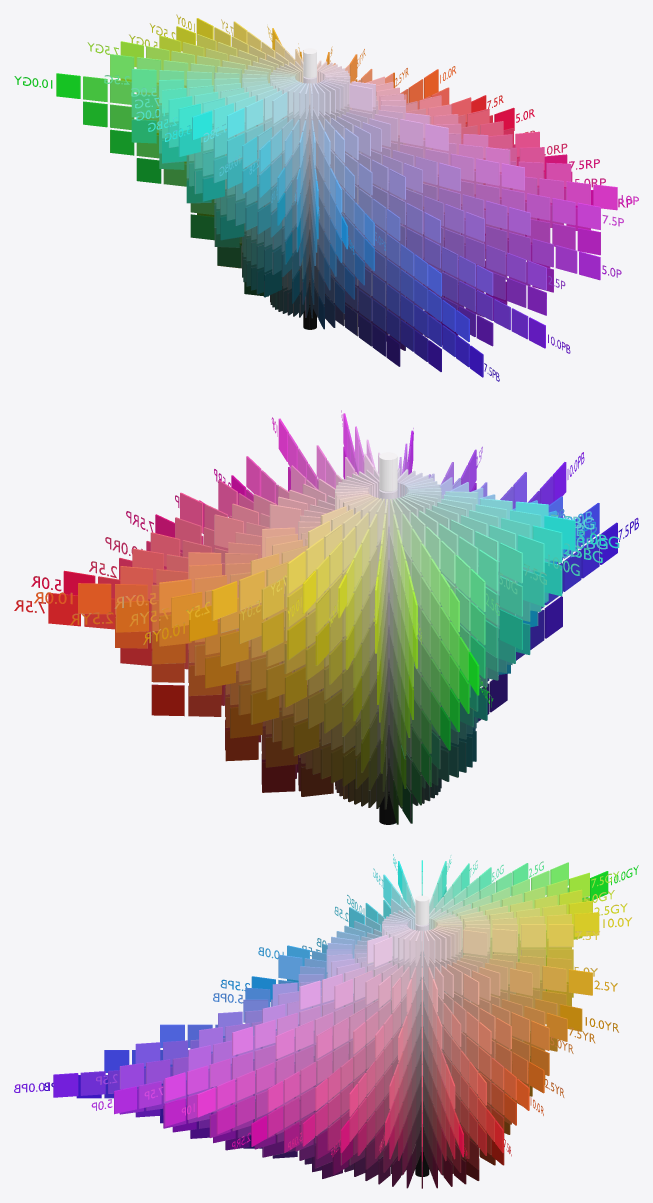
The model's file is munsel.glb.
3 renders of one model, top to bottom at view 1: azimuth 30°, elevation 25°; view 2: azimuth 150°, elevation 25°; view 3: azimuth 270°, elevation 25°, orthographic. The views are drawn at different scales.
Visible parts, largest first — view 1: Munsell_0; view 2: Munsell_0; view 3: Munsell_0.
Boxes of the visible parts, x1=… form: Munsell_0: x1=14, y1=14, x2=638, y2=381; Munsell_0: x1=14, y1=410, x2=638, y2=824; Munsell_0: x1=14, y1=854, x2=638, y2=1188.
Size of the model in its own units: 18.08 by 10.95 by 22.5.
Materials: 1 (1 with a texture image).
